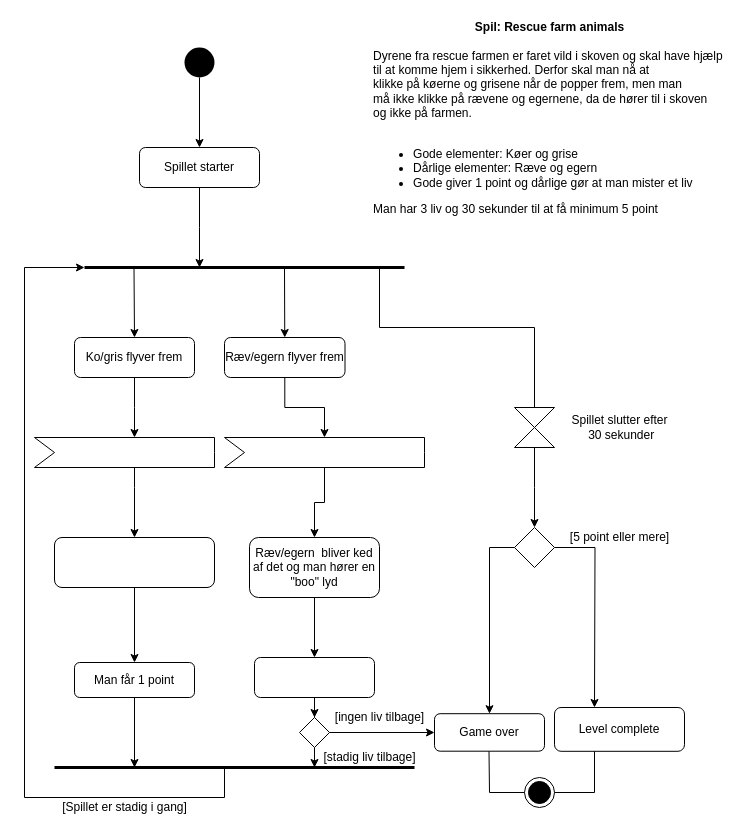
The diagram is 752 pixels wide and 834 high, and some of its shapes have lost their labels. Here are the shapes that lost their labels. From the top down, the centre of each, then its label:
pixel 124 452: Bruger klikker på ko/gris
pixel 324 452: Bruger klikker på ræv/egern
pixel 134 562: Ko/gris smiler og man hører en "yaay" lyd
pixel 314 677: Man mister 1 liv
